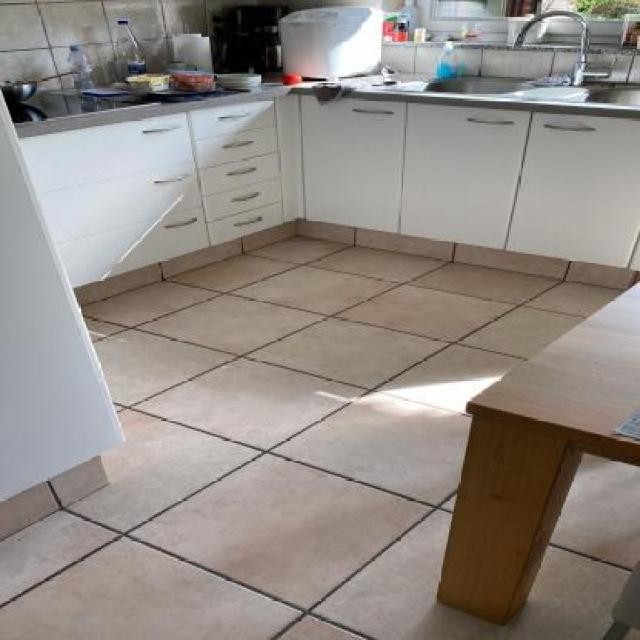Floor: (0, 236, 639, 639), (624, 628, 639, 639)
